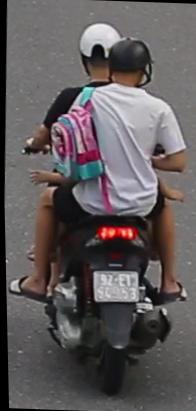LP: (90, 265, 139, 304)
helmet: (74, 19, 126, 88), (106, 34, 155, 92)
